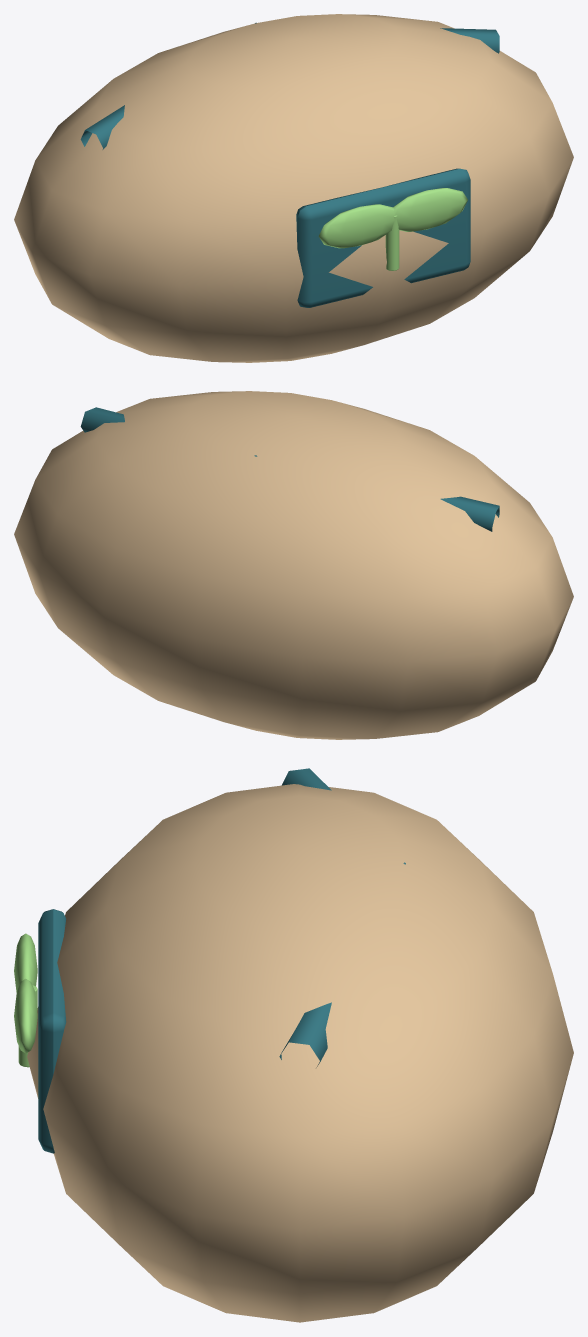
The model's file is Soil_Bag.glb.
The picture shows the model from 3 angles, top to bottom: view 1: azimuth 30°, elevation 25°; view 2: azimuth 150°, elevation 25°; view 3: azimuth 270°, elevation 25°; orthographic projection. The views are drawn at different scales.
Parts seen in each view (by area): view 1: Padded regolith sack, Soil ID patch, Sprout leaf, Sprout leaf.001, Sealed sack seam, Soil sprout; view 2: Padded regolith sack, Sealed sack seam; view 3: Padded regolith sack, Soil ID patch, Sealed sack seam, Sprout leaf.001, Sprout leaf.
Boxes of the visible parts, left/top/right/bottom form: Padded regolith sack: left=14, top=14, right=573, bottom=362; Soil ID patch: left=296, top=168, right=470, bottom=307; Sprout leaf: left=318, top=204, right=395, bottom=248; Sprout leaf.001: left=393, top=188, right=467, bottom=231; Sealed sack seam: left=80, top=22, right=499, bottom=149; Soil sprout: left=385, top=215, right=399, bottom=270; Padded regolith sack: left=14, top=391, right=573, bottom=739; Sealed sack seam: left=80, top=407, right=499, bottom=531; Padded regolith sack: left=27, top=784, right=573, bottom=1322; Soil ID patch: left=38, top=909, right=66, bottom=1153; Sealed sack seam: left=279, top=768, right=405, bottom=1067; Sprout leaf.001: left=14, top=979, right=37, bottom=1053; Sprout leaf: left=14, top=933, right=37, bottom=991.
Bounding box in the file's own units: 0.7 × 0.38 × 0.47.
